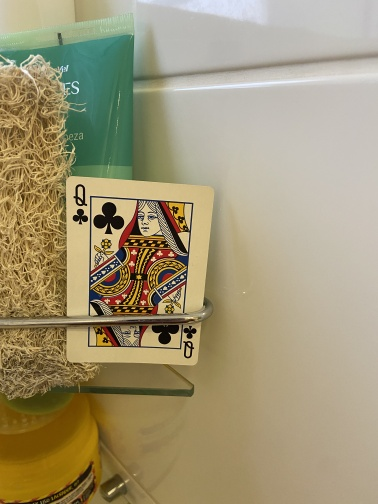queen: (64, 175, 215, 368)
